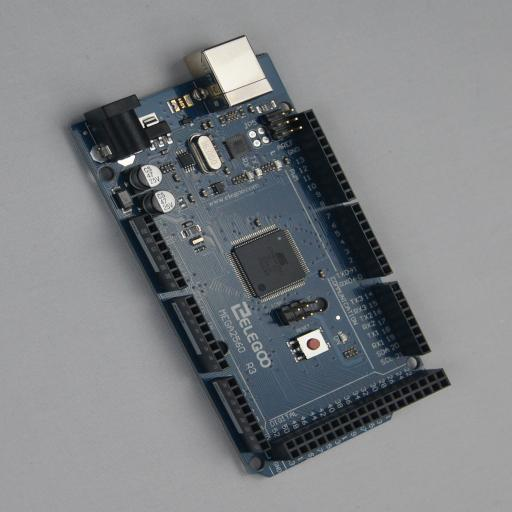Arduino Mega 2560 -Blue-: (63, 35, 451, 477)
